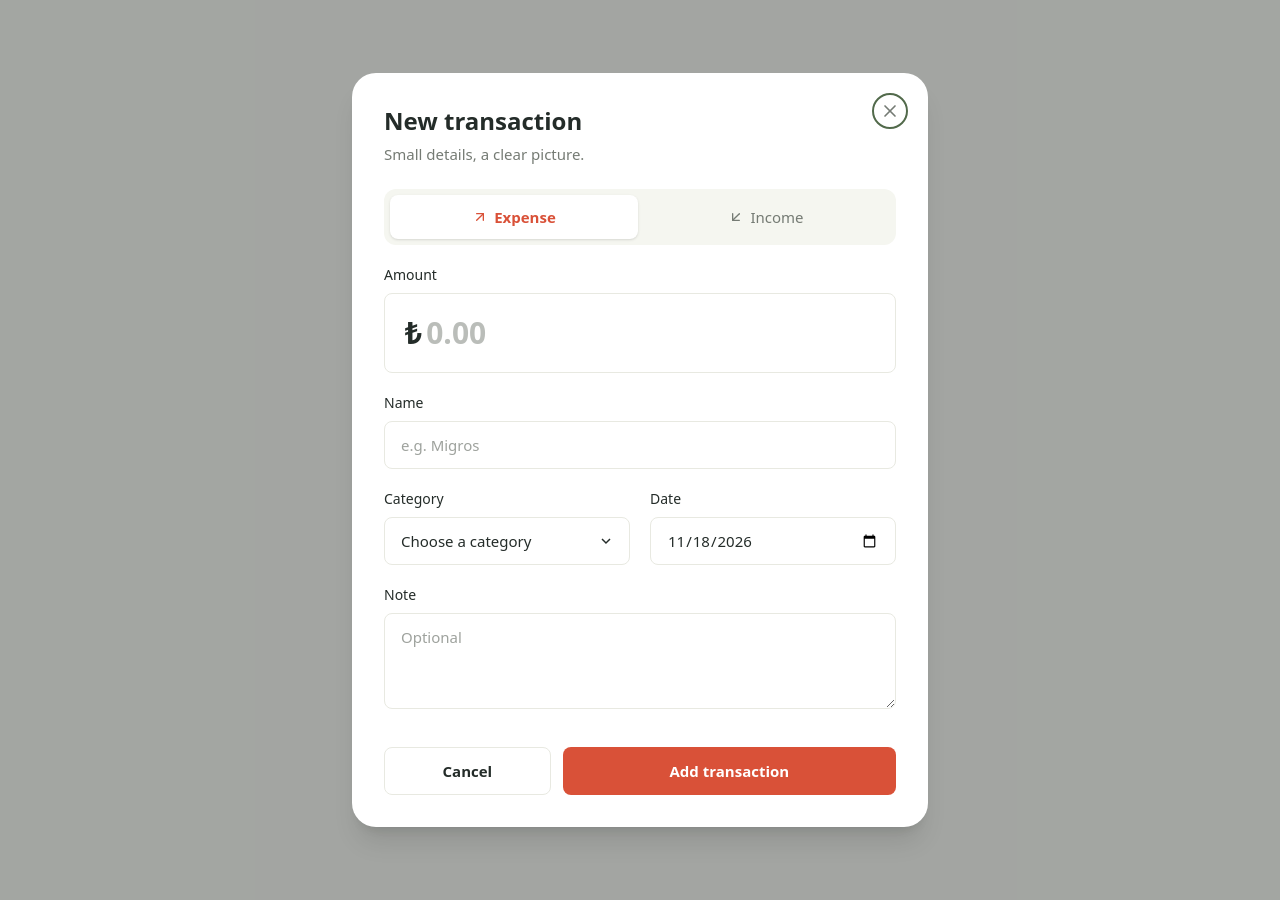
Test case: TransactionModal › shows field errors from the API
Type "10" into the number field labelled "Amount" at point(649, 333), box [422,315,875,351]
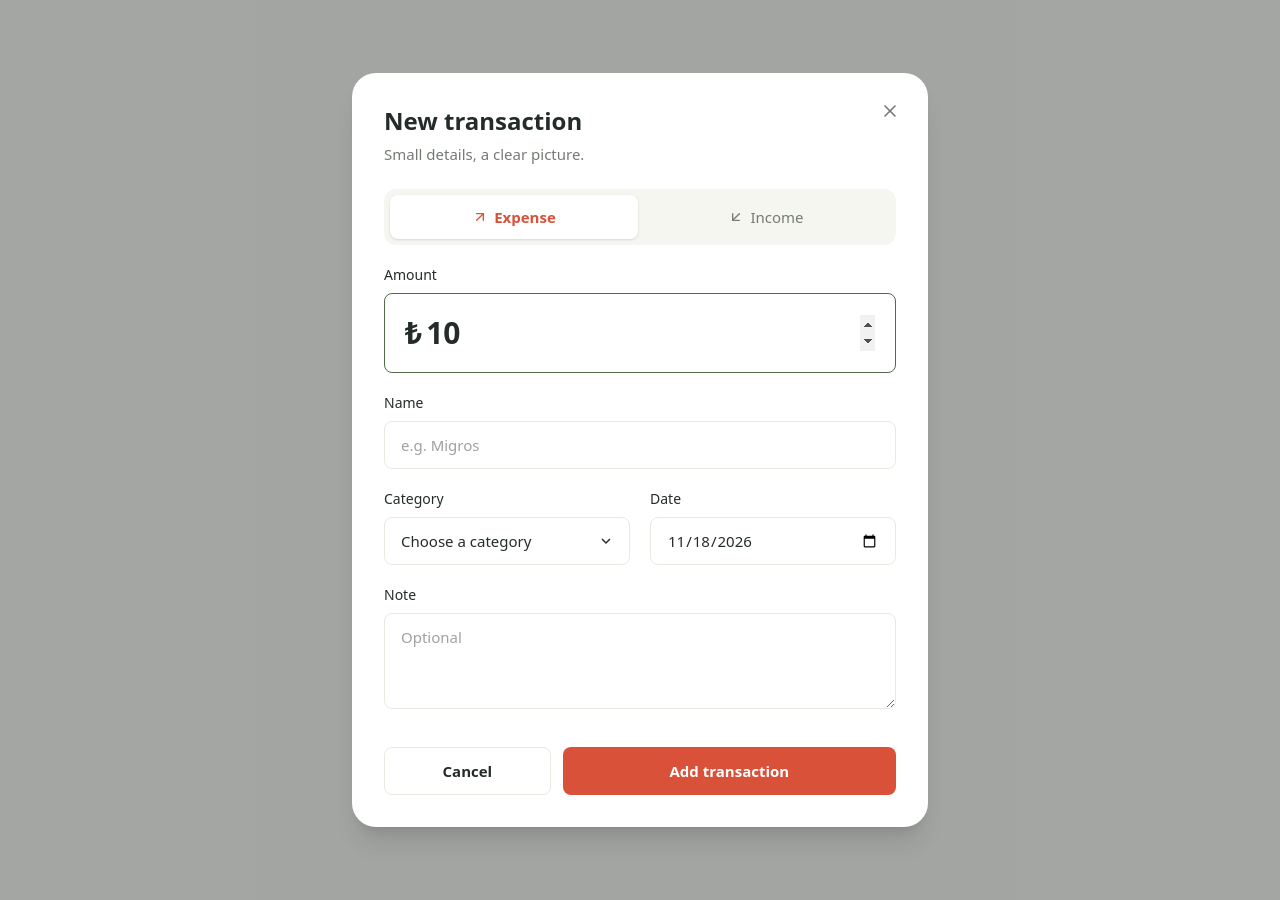
Type "x" into the field labelled "Name" at point(640, 445), box [384,421,896,469]
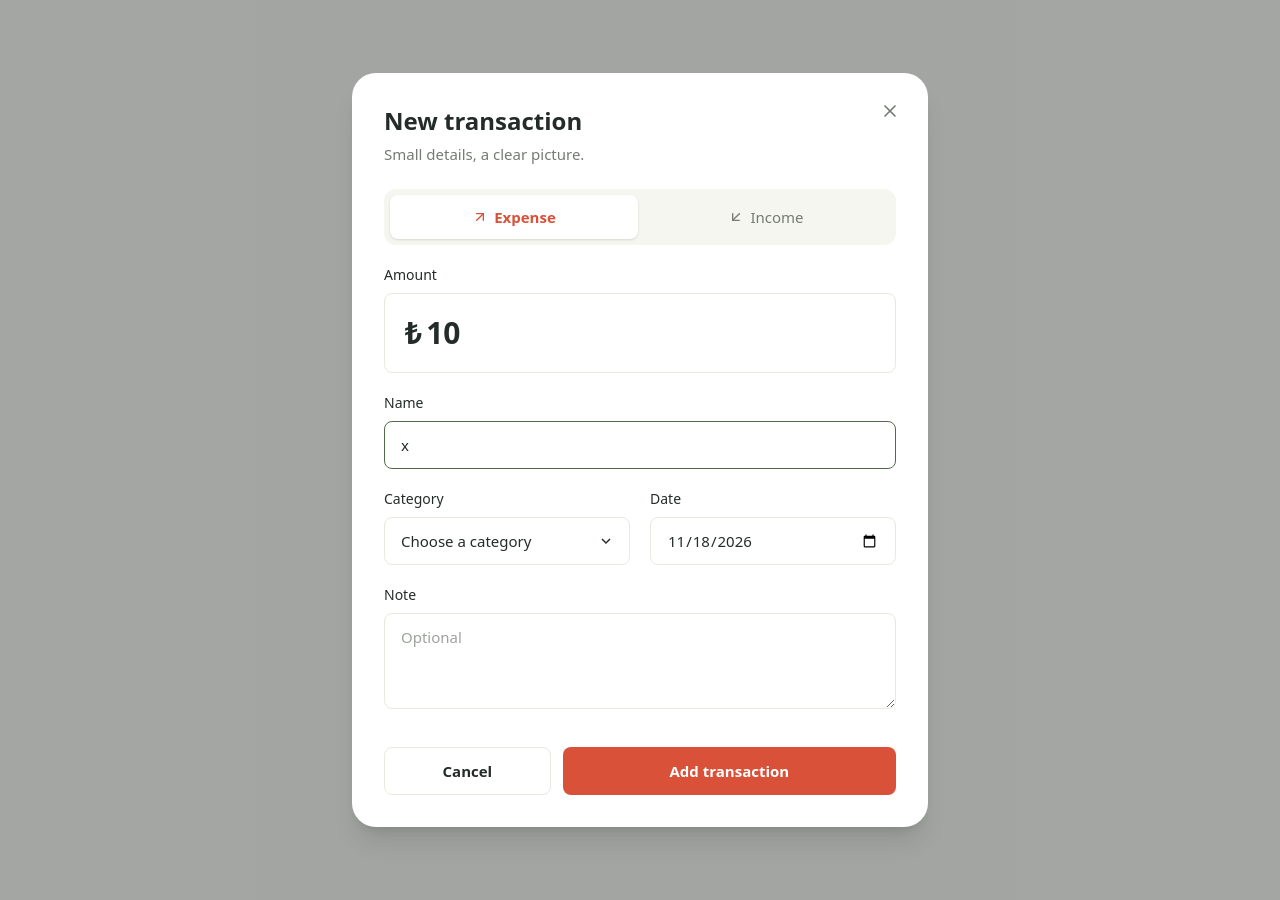
Select "Groceries" in the dropdown labelled "Category" at point(507, 541), box [384,517,630,565]
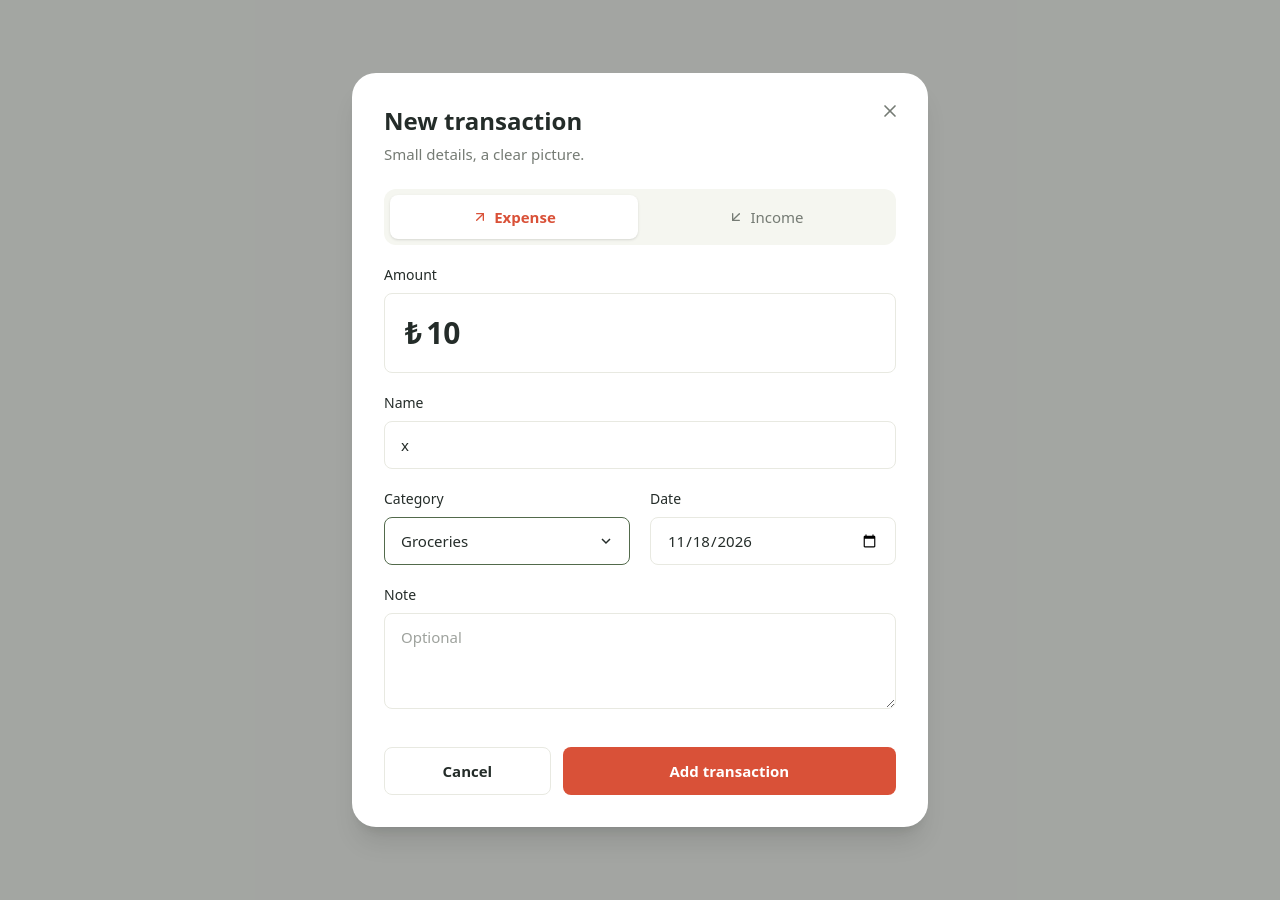
Click the button "Add transaction" at point(729, 771), box [563,747,896,795]
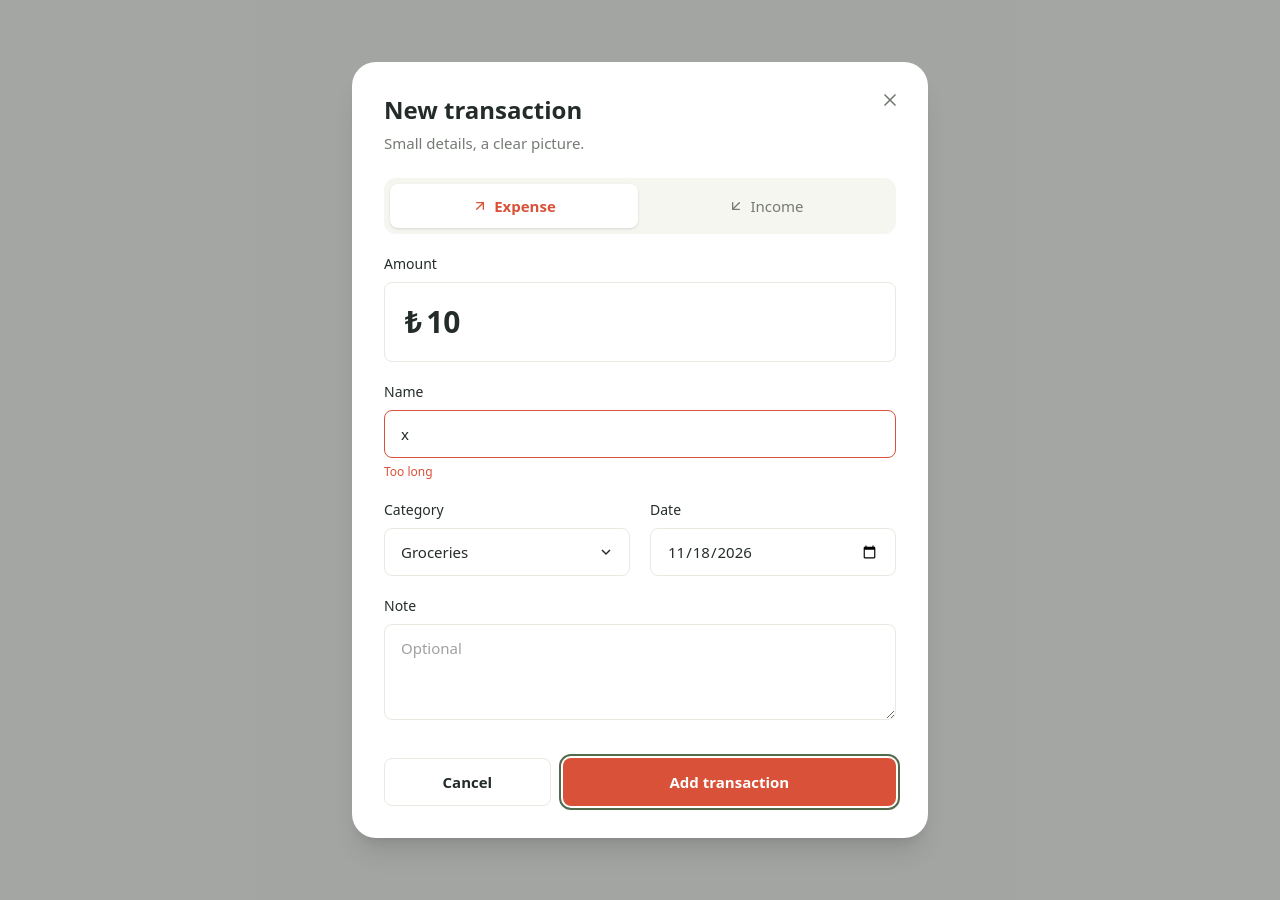
Expected: the text "Too long" is shown, [384,463,433,480]
